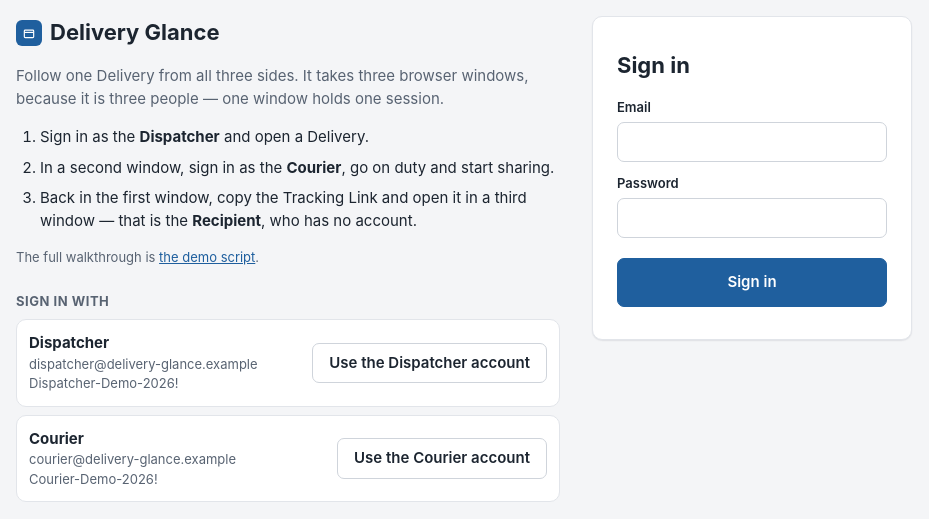
SignInPage › reports a rejected sign-in without saying which field was wrong
The width and height of the screenshot is (929, 519).
Expected: the button "Sign in" is shown, 617,258 -> 887,307
Step 1. Type "dispatcher@delivery-glance.example" into the field labelled "Email" → (752, 142), box 617,122 -> 887,162
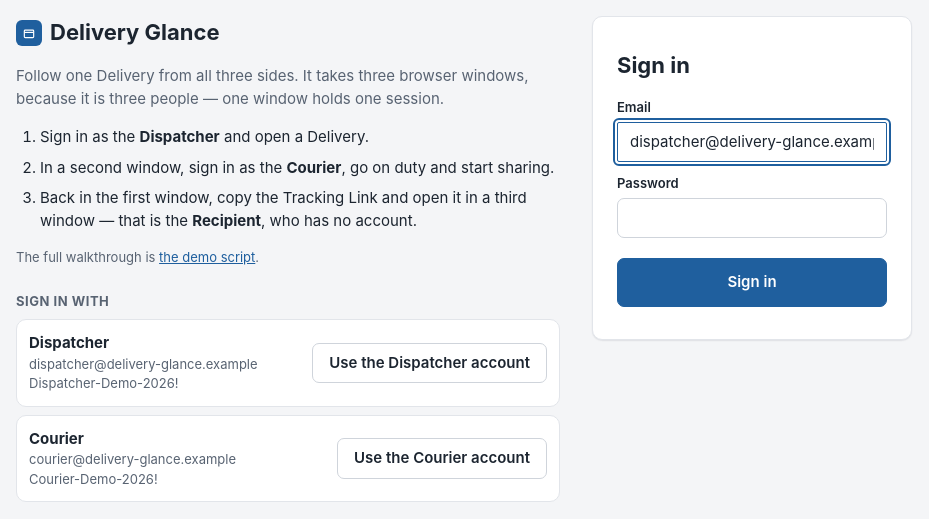
Step 2. Type "wrong" into the password field labelled "Password" → (752, 218), box 617,198 -> 887,238
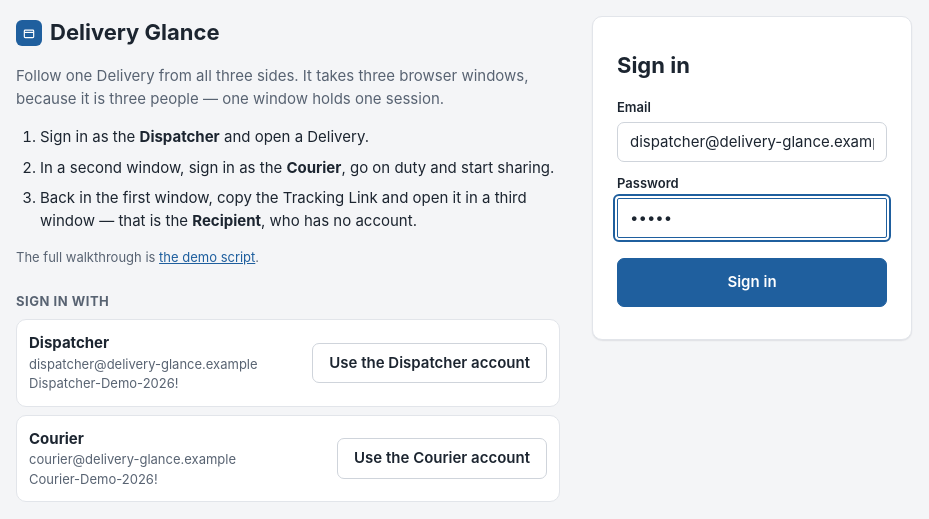
Step 3. Click the button "Sign in" → (752, 283), box 617,258 -> 887,307
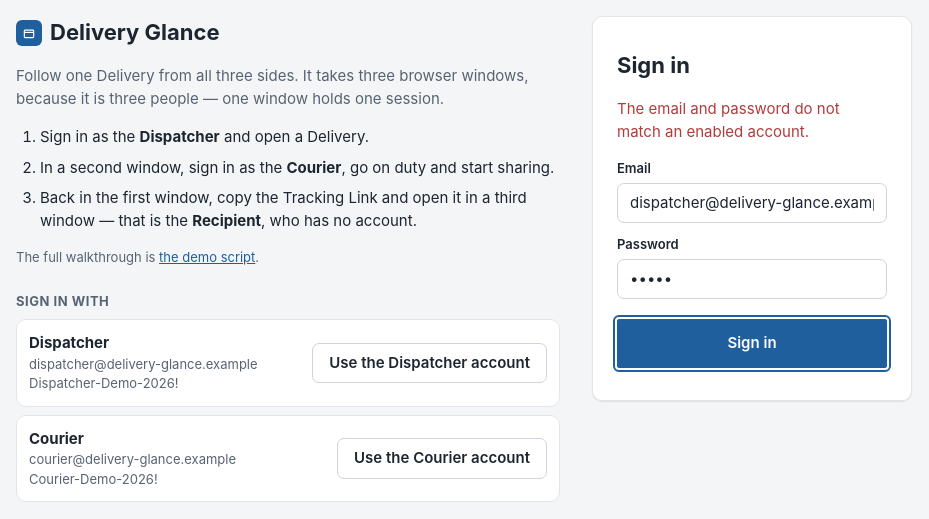
Expected: the message reads "The email and password do not match an enabled account.", 617,99 -> 840,141
